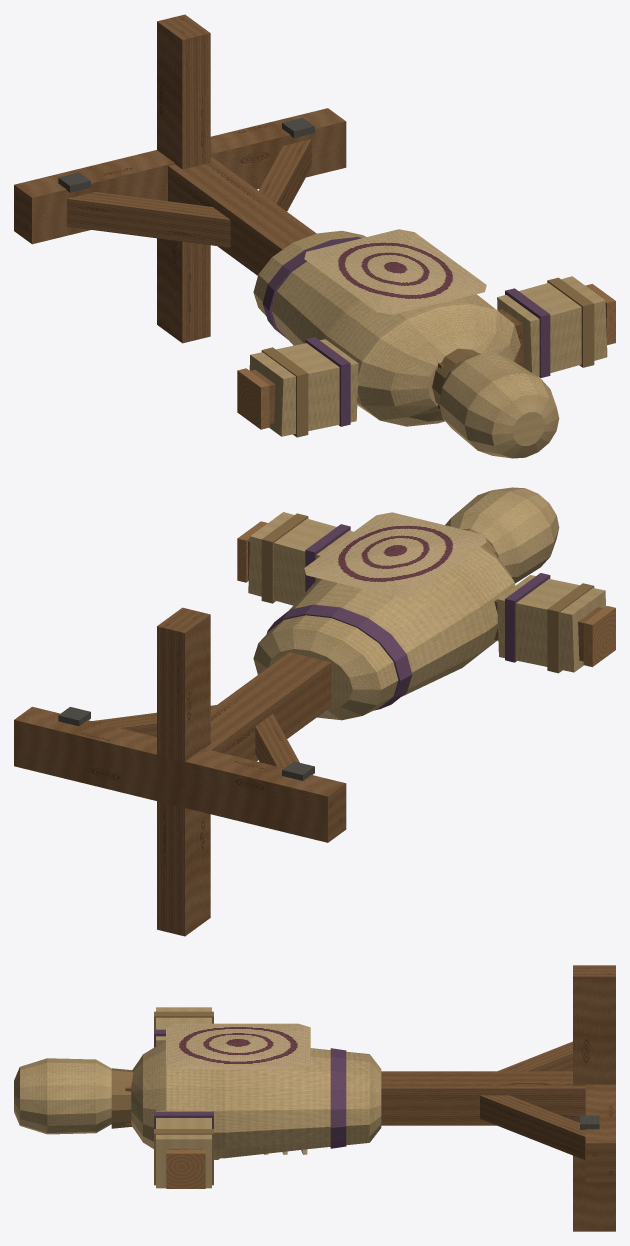
The model's file is dummy.obj.
The picture shows the model from 3 angles, top to bottom: view 1: azimuth 30°, elevation 25°; view 2: azimuth 150°, elevation 25°; view 3: azimuth 270°, elevation 25°; orthographic projection. The views are drawn at different scales.
Visible parts, largest first — view 1: SuQingTrainingDummy; view 2: SuQingTrainingDummy; view 3: SuQingTrainingDummy.
Part boxes in pixels (box(x1,y1,x2,y2)): SuQingTrainingDummy: box(14, 14, 615, 458); SuQingTrainingDummy: box(14, 487, 615, 936); SuQingTrainingDummy: box(14, 965, 615, 1231).
Bounding box in the file's own units: 0.882 × 0.72 × 1.54.
Materials: 1 (1 with a texture image).
